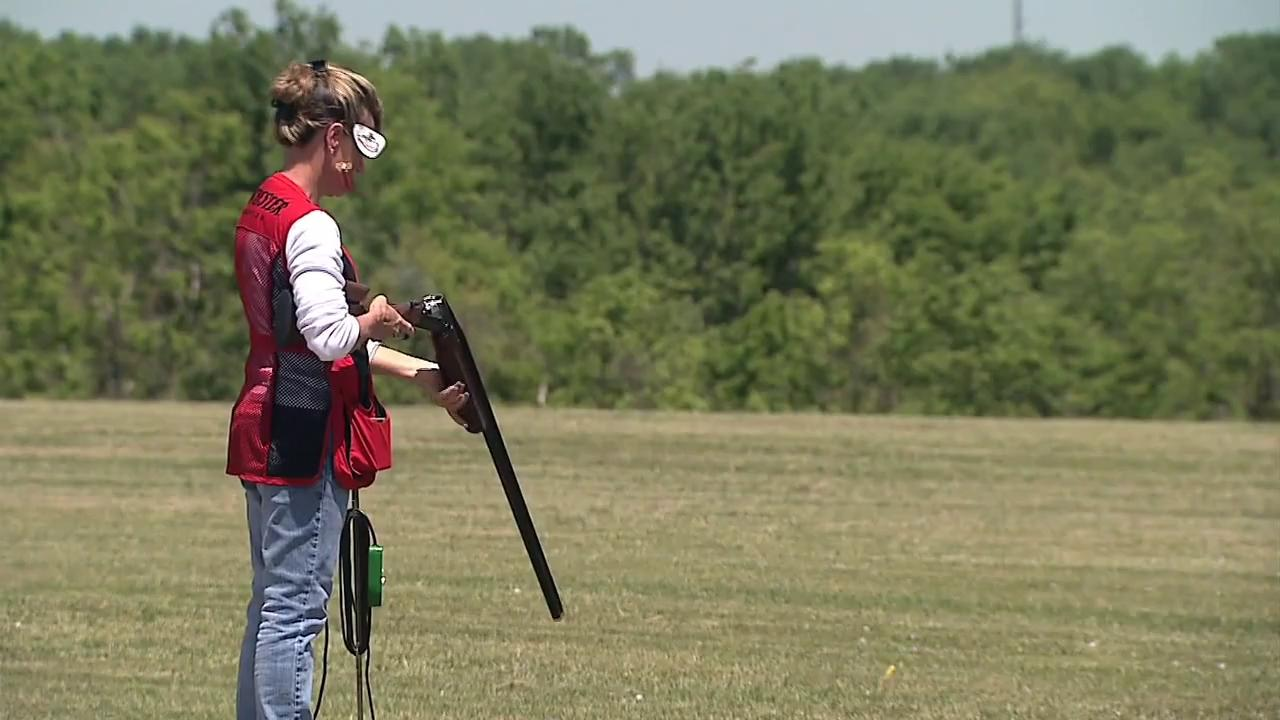victim: (206, 56, 478, 720)
